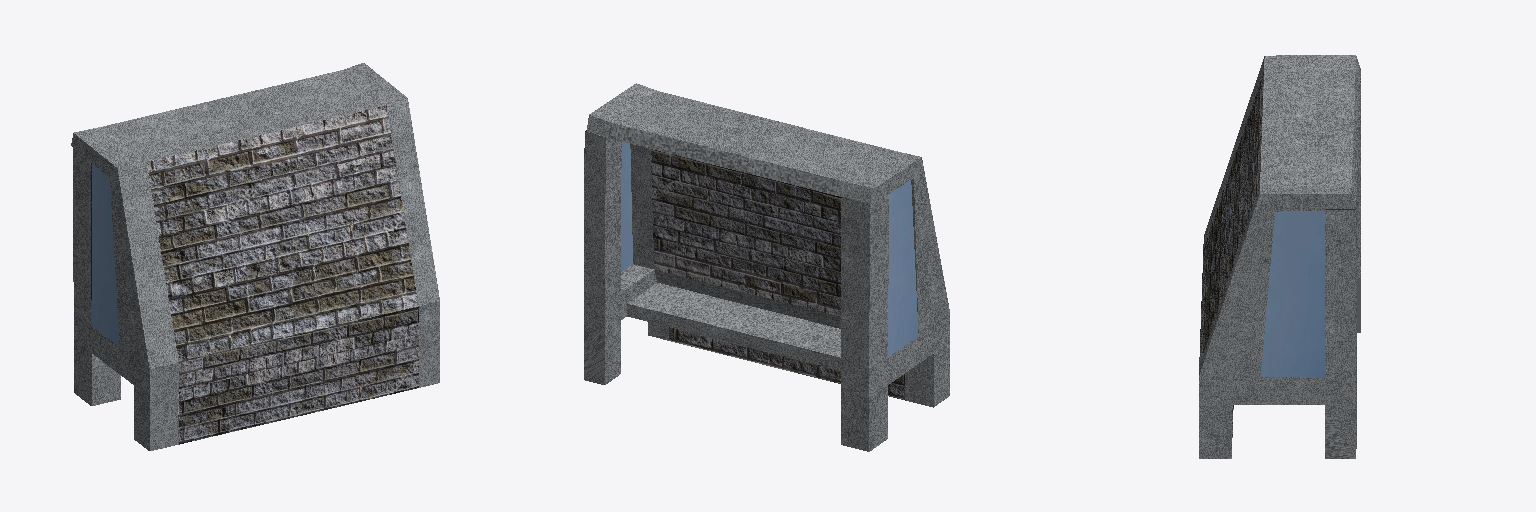
3 views of the same model, side by side, from view 1: azimuth 30°, elevation 25°; view 2: azimuth 150°, elevation 25°; view 3: azimuth 270°, elevation 25° (orthographic).
Visible parts, largest first — view 1: Cube; view 2: Cube; view 3: Cube.
Boxes of the visible parts, <box> form: Cube: <box>71,63,439,450</box>; Cube: <box>584,83,949,451</box>; Cube: <box>1199,55,1360,458</box>.
Size of the model in its own units: 195 by 169 by 93.67.
Materials: 1 (1 with a texture image).